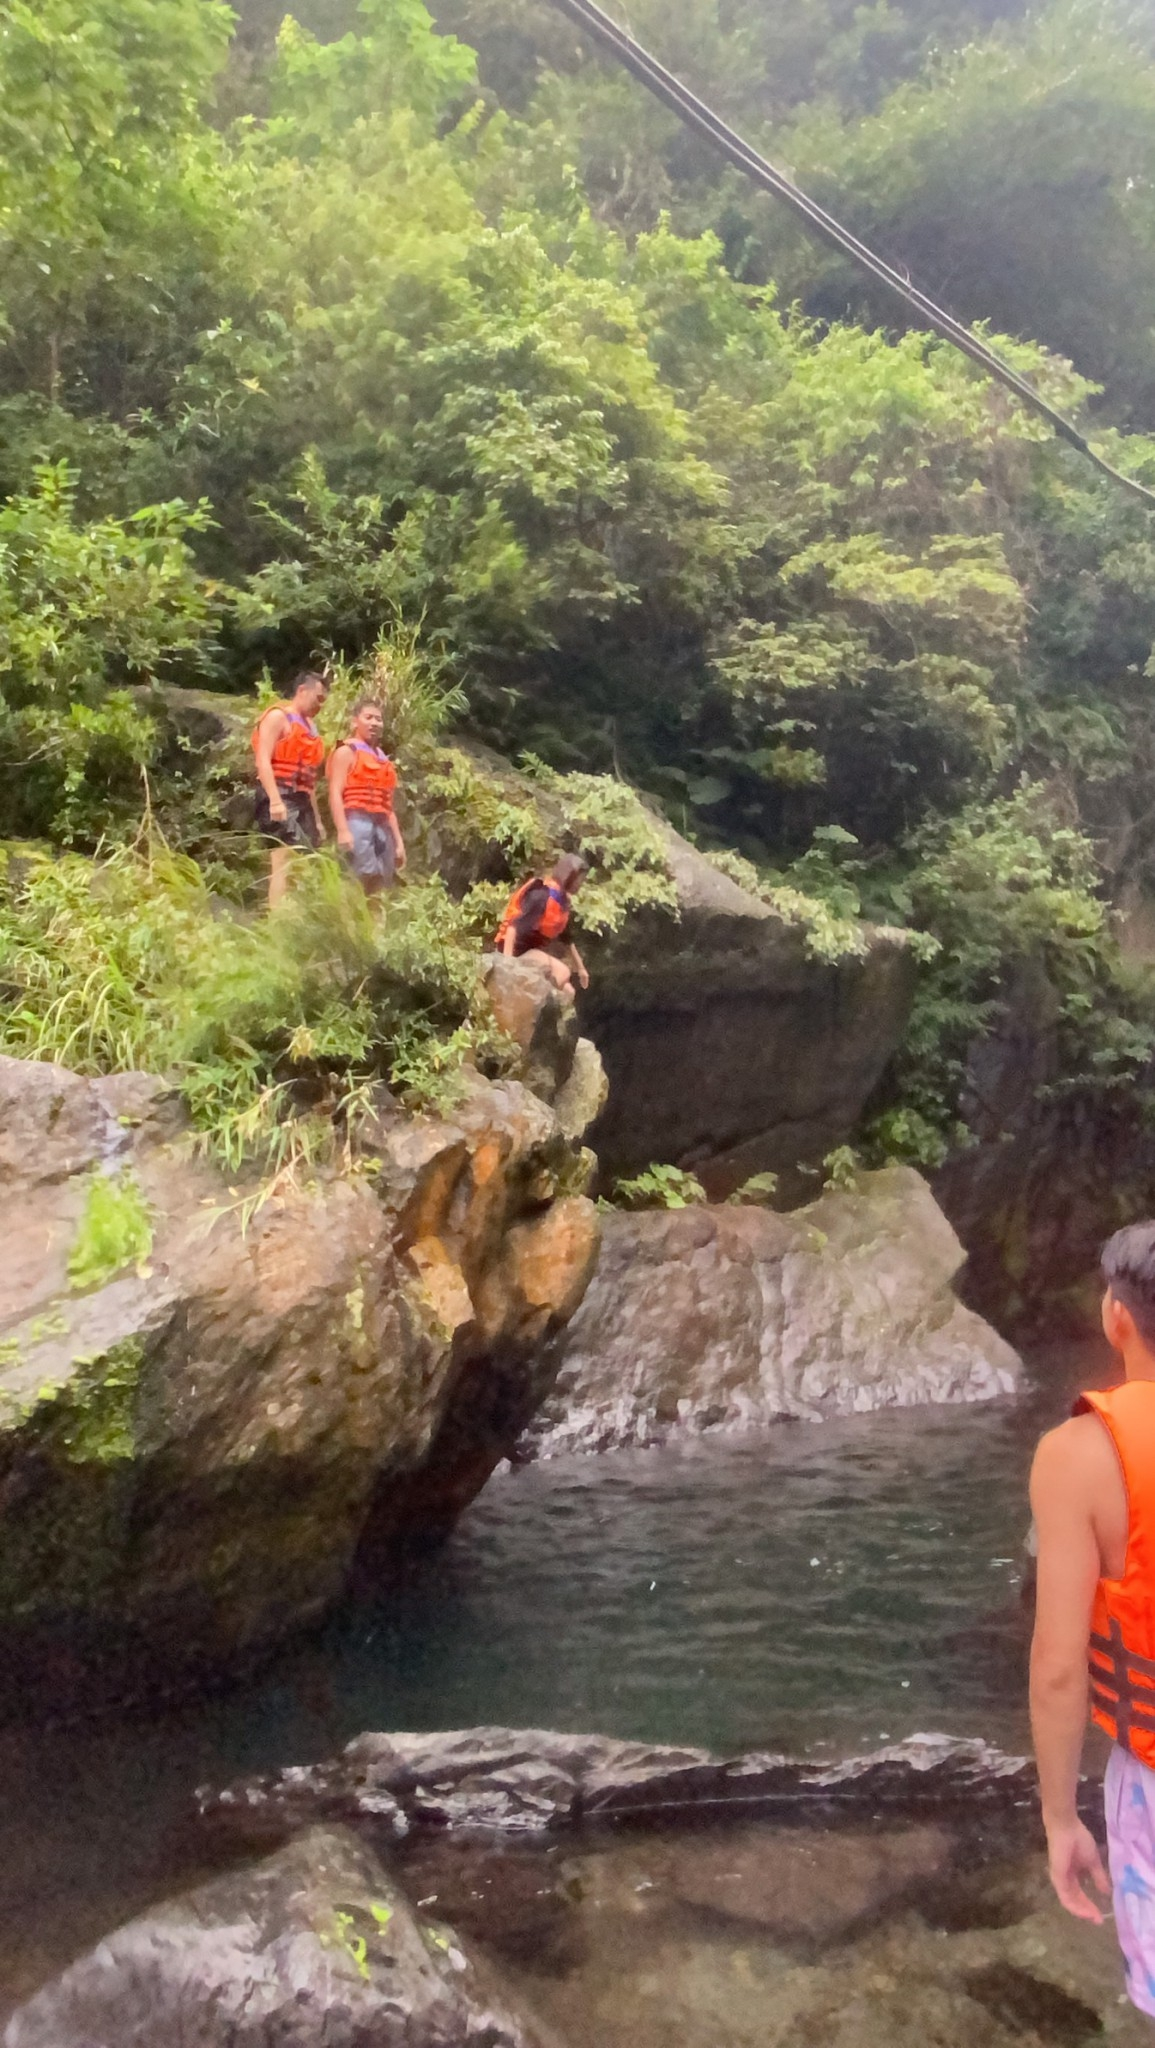people: (1053, 1222, 1155, 2048), (249, 676, 330, 925), (333, 705, 414, 941), (507, 841, 591, 983)
